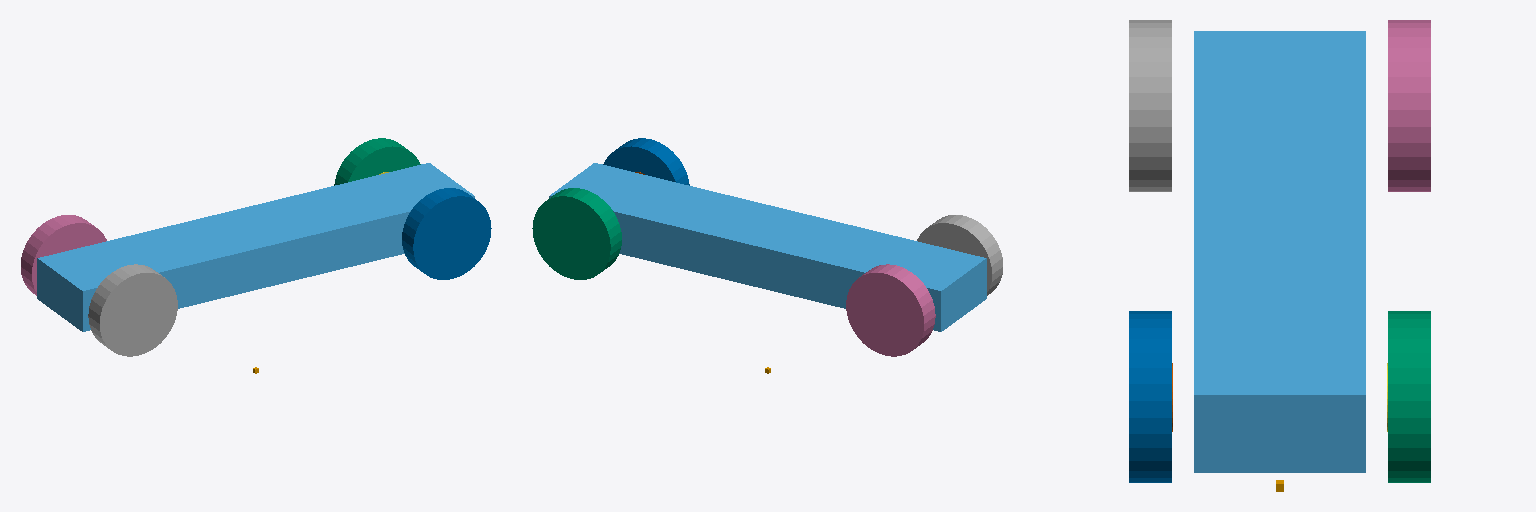
robot.urdf — ackermann_1:
<?xml version="1.0"?> 
<robot name="ackermann_1" xmlns:xacro="http://www.ros.org/wiki/xacro"> 
	
	<!-- Base link -->  
  <link name="base_link">
    <visual>  
      <geometry>
        <box size="0.01 0.01 0.01"/>
      </geometry>
    </visual>
  </link> 

	<!-- Chassis START-->  
	<joint name="base_joint" type="fixed">
    <parent link="base_link"/> 
    <child link="chassis"/> 
  </joint> 

  <link name="chassis"> 
    <collision> 
      <origin xyz="0 0 0.3" rpy="0 0 0"/> 
      <geometry> 
            <box size="1 0.2 0.1"/> 
      </geometry> 
    </collision> 

    <visual> 
      <origin xyz="0 0 0.3" rpy="0 0 0"/> 
      <geometry> 
         <box size="1 0.2 0.1"/> 
      </geometry> 
      <material name="orange"/> 
    </visual>
     
    <inertial> 
      <mass value="1"/> 
      <origin xyz="0 0 0.3" rpy="0 0 0"/> 
      <inertia ixx="0.4" ixy="0.1" ixz="0.1" iyy="0.4" iyz="0.1" izz="0.2"/> 
    </inertial> 
  </link>    

  <gazebo reference="chassis"> 
    <!--Stiffness -->  
    <kp>1000000.0</kp> 
    <!--Dampening-->  
    <kd>0.1</kd> 
    <dampingFactor>0</dampingFactor> 
    <material>Gazebo/White</material> 
    <selfCollide>true</selfCollide> 
    <turnGravityOff>false</turnGravityOff> 
    <mu1 value="0.1"/> 
    <mu2 value="0.1"/> 
    <fdir1 value="0 0 0"/> 
  </gazebo> 
	<!-- Chassis END --> 

  <!-- Right Wheel - Start --> 
	<link name="right_wheel"> 
		
		<collision> 
		  <origin xyz="0 0 0" rpy="0 1.5708 1.5708" />
		  <geometry> 
		   <cylinder length="0.05" radius="0.1"/> 
		  </geometry> 
		</collision> 

		<visual> 
		  <origin xyz="0 0 0" rpy="0 1.5708 1.5708" /> 
		  <geometry> 
			<cylinder length="0.05" radius="0.1"/> 
		  </geometry> 
		  <material name="black"/> 
		</visual> 		

		<inertial> 
		  <origin xyz="0 0 0" rpy="0 1.5708 1.5708" /> 
		  <mass value="0.2"/> 
		  <cylinder_inertia m="0.2" r="0.3" h="0.1"/> 
      <inertia ixx="0.4" ixy="0.1" ixz="0.1" iyy="0.4" iyz="0.1" izz="0.2"/> 
	  </inertial> 

	</link> 
  <gazebo reference="right_wheel"> 
    <mu1 value="2.0"/> 
    <mu2 value="2.0"/> 
    <kp  value="10000000.0" /> 
    <kd  value="1.0" /> 
    <fdir1 value="0 1 0"/> 
    <material>Gazebo/Blue</material> 
  </gazebo>

	<link name="right_wheel_assembly">
		<collision> 
		  <origin xyz="0 0 0" rpy="0 1.5708 1.5708" />
		  <geometry> 
		   <cylinder length="0.001" radius="0.04"/> 
		  </geometry> 
		</collision> 

		<visual> 
		  <origin xyz="0 0 0" rpy="0 1.5708 1.5708" /> 
		  <geometry> 
			<cylinder length="0.001" radius="0.04"/> 
		  </geometry> 
		  <material name="white"/> 
		</visual> 		

		<inertial> 
		  <origin xyz="0 0 0" rpy="0 1.5708 1.5708" /> 
		  <mass value="0.2"/> 
		  <cylinder_inertia m="0.2" r="0.3" h="0.1"/> 
      <inertia ixx="0.4" ixy="0.1" ixz="0.1" iyy="0.4" iyz="0.1" izz="0.2"/> 
	  </inertial>
	</link>  

  <gazebo reference="right_wheel_assembly"> 
    <mu1 value="2.0"/> 
    <mu2 value="2.0"/> 
    <kp  value="10000000.0" /> 
    <kd  value="1.0" /> 
    <fdir1 value="0 1 0"/> 
    <material>Gazebo/White</material> 
  </gazebo>

  <joint name="right_wheel_hinge" type="revolute"> 
    <parent link="chassis"/> 
    <child link="right_wheel_assembly"/> 
    <origin xyz="0.4 0.125 0.3" rpy="0 0 0" />  
    <axis xyz="0 0 1" rpy="0 0 0" /> 
    <limit effort="100" velocity="1" lower="-1" upper="1"/> 
    <dynamics damping="0.0" friction="0.0"/> 
  </joint> 

  <joint name="right_wheel_rotate" type="continuous"> 
    <parent link="right_wheel_assembly"/> 
    <child link="right_wheel"/> 
    <origin xyz="0.0 0.025 0.0" rpy="0 0 0" />  
    <axis xyz="0 1 0" rpy="0 0 0" /> 
    <limit effort="100" velocity="50"/> 
    <dynamics damping="0.0" friction="0.0"/> 
  </joint>


  <transmission name="trans_right_wheel_hing">
    <type>transmission_interface/SimpleTransmission</type>
    <joint name="right_wheel_hinge">
      <hardwareInterface>EffortJointInterface</hardwareInterface>
    </joint>
    <actuator name="motor1">
      <hardwareInterface>EffortJointInterface</hardwareInterface>
      <mechanicalReduction>1</mechanicalReduction>
    </actuator>
  </transmission>

  <transmission name="trans_right_wheel_rotate">
    <type>transmission_interface/SimpleTransmission</type>
    <joint name="right_wheel_rotate">
      <hardwareInterface>EffortJointInterface</hardwareInterface>
    </joint>
    <actuator name="motor_right_wheel_rotate">
      <hardwareInterface>EffortJointInterface</hardwareInterface>
      <mechanicalReduction>1</mechanicalReduction>
    </actuator>
  </transmission>

  <!-- Right Wheel - End -->  

  <!-- Left Wheel - Start  -->
	<link name="left_wheel"> 
		
		<collision> 
		  <origin xyz="0 0 0" rpy="0 1.5708 1.5708" />
		  <geometry> 
		   <cylinder length="0.05" radius="0.1"/> 
		  </geometry> 
		</collision> 

		<visual> 
		  <origin xyz="0 0 0" rpy="0 1.5708 1.5708" /> 
		  <geometry> 
			<cylinder length="0.05" radius="0.1"/> 
		  </geometry> 
		  <material name="black"/> 
		</visual> 		

		<inertial> 
		  <origin xyz="0 0 0" rpy="0 1.5708 1.5708" /> 
		  <mass value="0.2"/> 
		  <cylinder_inertia m="0.2" r="0.3" h="0.1"/> 
      <inertia ixx="0.4" ixy="0.1" ixz="0.1" iyy="0.4" iyz="0.1" izz="0.2"/> 
	  </inertial> 

	</link> 
  <gazebo reference="left_wheel"> 
    <mu1 value="2.0"/> 
    <mu2 value="2.0"/> 
    <kp  value="10000000.0" /> 
    <kd  value="1.0" /> 
    <fdir1 value="0 1 0"/> 
    <material>Gazebo/Blue</material> 
  </gazebo>

	<link name="left_wheel_assembly">
		<collision> 
		  <origin xyz="0 0 0" rpy="0 1.5708 1.5708" />
		  <geometry> 
		   <cylinder length="0.001" radius="0.04"/> 
		  </geometry> 
		</collision> 

		<visual> 
		  <origin xyz="0 0 0" rpy="0 1.5708 1.5708" /> 
		  <geometry> 
			<cylinder length="0.001" radius="0.04"/> 
		  </geometry> 
		  <material name="white"/> 
		</visual> 		

		<inertial> 
		  <origin xyz="0 0 0" rpy="0 1.5708 1.5708" /> 
		  <mass value="0.2"/> 
		  <cylinder_inertia m="0.2" r="0.3" h="0.1"/> 
      <inertia ixx="0.4" ixy="0.1" ixz="0.1" iyy="0.4" iyz="0.1" izz="0.2"/> 
	  </inertial>
	</link>  

  <gazebo reference="left_wheel_assembly"> 
    <mu1 value="2.0"/> 
    <mu2 value="2.0"/> 
    <kp  value="10000000.0" /> 
    <kd  value="1.0" /> 
    <fdir1 value="0 1 0"/> 
    <material>Gazebo/White</material> 
  </gazebo>

  <joint name="left_wheel_hinge" type="revolute"> 
    <parent link="chassis"/> 
    <child link="left_wheel_assembly"/> 
    <origin xyz="0.4 -0.125 0.3" rpy="0 0 0" />  
    <axis xyz="0 0 1" rpy="0 0 0" /> 
    <limit effort="100" velocity="1" lower="-1" upper="1"/> 
    <dynamics damping="0.0" friction="0.0"/> 
  </joint> 

  <joint name="left_wheel_rotate" type="continuous"> 
    <parent link="left_wheel_assembly"/> 
    <child link="left_wheel"/> 
    <origin xyz="0.0 -0.025 0.0" rpy="0 0 0" />  
    <axis xyz="0 1 0" rpy="0 0 0" /> 
    <limit effort="0" velocity="0"/> 
    <dynamics damping="0.0" friction="0.0"/> 
  </joint>


  <transmission name="tran2">
    <type>transmission_interface/SimpleTransmission</type>
    <joint name="left_wheel_hinge">
      <hardwareInterface>EffortJointInterface</hardwareInterface>
    </joint>
    <actuator name="motor2">
      <hardwareInterface>EffortJointInterface</hardwareInterface>
      <mechanicalReduction>1</mechanicalReduction>
    </actuator>
  </transmission>

  <transmission name="trans_left_wheel_rotate">
    <type>transmission_interface/SimpleTransmission</type>
    <joint name="left_wheel_rotate">
      <hardwareInterface>EffortJointInterface</hardwareInterface>
    </joint>
    <actuator name="motor_left_wheel_rotate">
      <hardwareInterface>EffortJointInterface</hardwareInterface>
      <mechanicalReduction>1</mechanicalReduction>
    </actuator>
  </transmission>

  <!-- Left Wheel - End -->

  <!-- Right Rear Wheel Start -->
	<link name="right_wheel_rear"> 
		
		<collision> 
		  <origin xyz="0 0 0" rpy="0 1.5708 1.5708" />
		  <geometry> 
		   <cylinder length="0.05" radius="0.1"/> 
		  </geometry> 
		</collision> 

		<visual> 
		  <origin xyz="0 0 0" rpy="0 1.5708 1.5708" /> 
		  <geometry> 
			<cylinder length="0.05" radius="0.1"/> 
		  </geometry> 
		  <material name="black"/> 
		</visual> 		

		<inertial> 
		  <origin xyz="0 0 0" rpy="0 1.5708 1.5708" /> 
		  <mass value="0.2"/> 
		  <cylinder_inertia m="0.2" r="0.3" h="0.1"/> 
      <inertia ixx="0.4" ixy="0.1" ixz="0.1" iyy="0.4" iyz="0.1" izz="0.2"/> 
	  </inertial> 

	</link>

  <joint name="right_wheel_rear_rotate" type="continuous"> 
    <parent link="chassis"/> 
    <child link="right_wheel_rear"/> 
    <origin xyz="-0.4 0.15 0.3" rpy="0 0 0" />  
    <axis xyz="0 1 0" rpy="0 0 0" /> 
    <limit effort="0" velocity="0"/> 
    <dynamics damping="0.0" friction="0.0"/> 
  </joint>

  <gazebo reference="right_wheel_rear"> 
    <mu1 value="2.0"/> 
    <mu2 value="2.0"/> 
    <kp  value="10000000.0" /> 
    <kd  value="1.0" /> 
    <fdir1 value="0 1 0"/> 
    <material>Gazebo/Blue</material> 
  </gazebo>

  <!-- Right Rear Wheel End -->

    <!-- Right Rear Wheel Start -->
	<link name="left_wheel_rear"> 
		
		<collision> 
		  <origin xyz="0 0 0" rpy="0 1.5708 1.5708" />
		  <geometry> 
		   <cylinder length="0.05" radius="0.1"/> 
		  </geometry> 
		</collision> 

		<visual> 
		  <origin xyz="0 0 0" rpy="0 1.5708 1.5708" /> 
		  <geometry> 
			<cylinder length="0.05" radius="0.1"/> 
		  </geometry> 
		  <material name="black"/> 
		</visual> 		

		<inertial> 
		  <origin xyz="0 0 0" rpy="0 1.5708 1.5708" /> 
		  <mass value="0.2"/> 
		  <cylinder_inertia m="0.2" r="0.3" h="0.1"/> 
      <inertia ixx="0.4" ixy="0.1" ixz="0.1" iyy="0.4" iyz="0.1" izz="0.2"/> 
	  </inertial> 

	</link>

  <joint name="left_wheel_rear_rotate" type="continuous"> 
    <parent link="chassis"/> 
    <child link="left_wheel_rear"/> 
    <origin xyz="-0.4 -0.15 0.3" rpy="0 0 0" />  
    <axis xyz="0 1 0" rpy="0 0 0" /> 
    <limit effort="0" velocity="0"/> 
    <dynamics damping="0.0" friction="0.0"/> 
  </joint>

  <gazebo reference="left_wheel_rear"> 
    <mu1 value="2.0"/> 
    <mu2 value="2.0"/> 
    <kp  value="10000000.0" /> 
    <kd  value="1.0" /> 
    <fdir1 value="0 1 0"/> 
    <material>Gazebo/Blue</material> 
  </gazebo>

  <!-- Left Rear Wheel End -->


	<gazebo>
		<plugin name="gazebo_ros_control" filename="libgazebo_ros_control.so">
		  <robotNamespace>/ack</robotNamespace>
			<legacyModeNS>true</legacyModeNS>
		</plugin>
	</gazebo>


  

</robot> 

--- Render facts (derived) ---
Views: 3 orthographic renders of the robot side by side, from view 1: azimuth 30°, elevation 25°; view 2: azimuth 150°, elevation 25°; view 3: azimuth 270°, elevation 25°.
Model ackermann_1 with 8 links and 7 joints (2 revolute, 4 continuous, 1 fixed), rooted at base_link, posed every joint at zero.
Visible links, largest first — view 1: chassis, left_wheel, left_wheel_rear, right_wheel_rear, right_wheel; view 2: chassis, right_wheel, right_wheel_rear, left_wheel_rear, left_wheel; view 3: chassis, right_wheel, left_wheel, right_wheel_rear, left_wheel_rear.
Boxes of the visible links, left/top/right/bottom form: chassis: left=37, top=163, right=474, bottom=331; left_wheel: left=402, top=188, right=491, bottom=279; left_wheel_rear: left=88, top=264, right=177, bottom=356; right_wheel_rear: left=21, top=215, right=106, bottom=295; right_wheel: left=334, top=138, right=420, bottom=185; chassis: left=549, top=163, right=986, bottom=331; right_wheel: left=532, top=188, right=621, bottom=279; right_wheel_rear: left=846, top=264, right=935, bottom=356; left_wheel_rear: left=917, top=215, right=1002, bottom=295; left_wheel: left=603, top=138, right=689, bottom=185; chassis: left=1194, top=31, right=1365, bottom=472; right_wheel: left=1388, top=311, right=1430, bottom=482; left_wheel: left=1129, top=311, right=1171, bottom=482; right_wheel_rear: left=1388, top=20, right=1430, bottom=191; left_wheel_rear: left=1129, top=20, right=1171, bottom=191.
Size in the robot's own frame: 1 by 0.35 by 0.405 metres.
Geometry: primitives only (box / cylinder / sphere), no mesh files.
